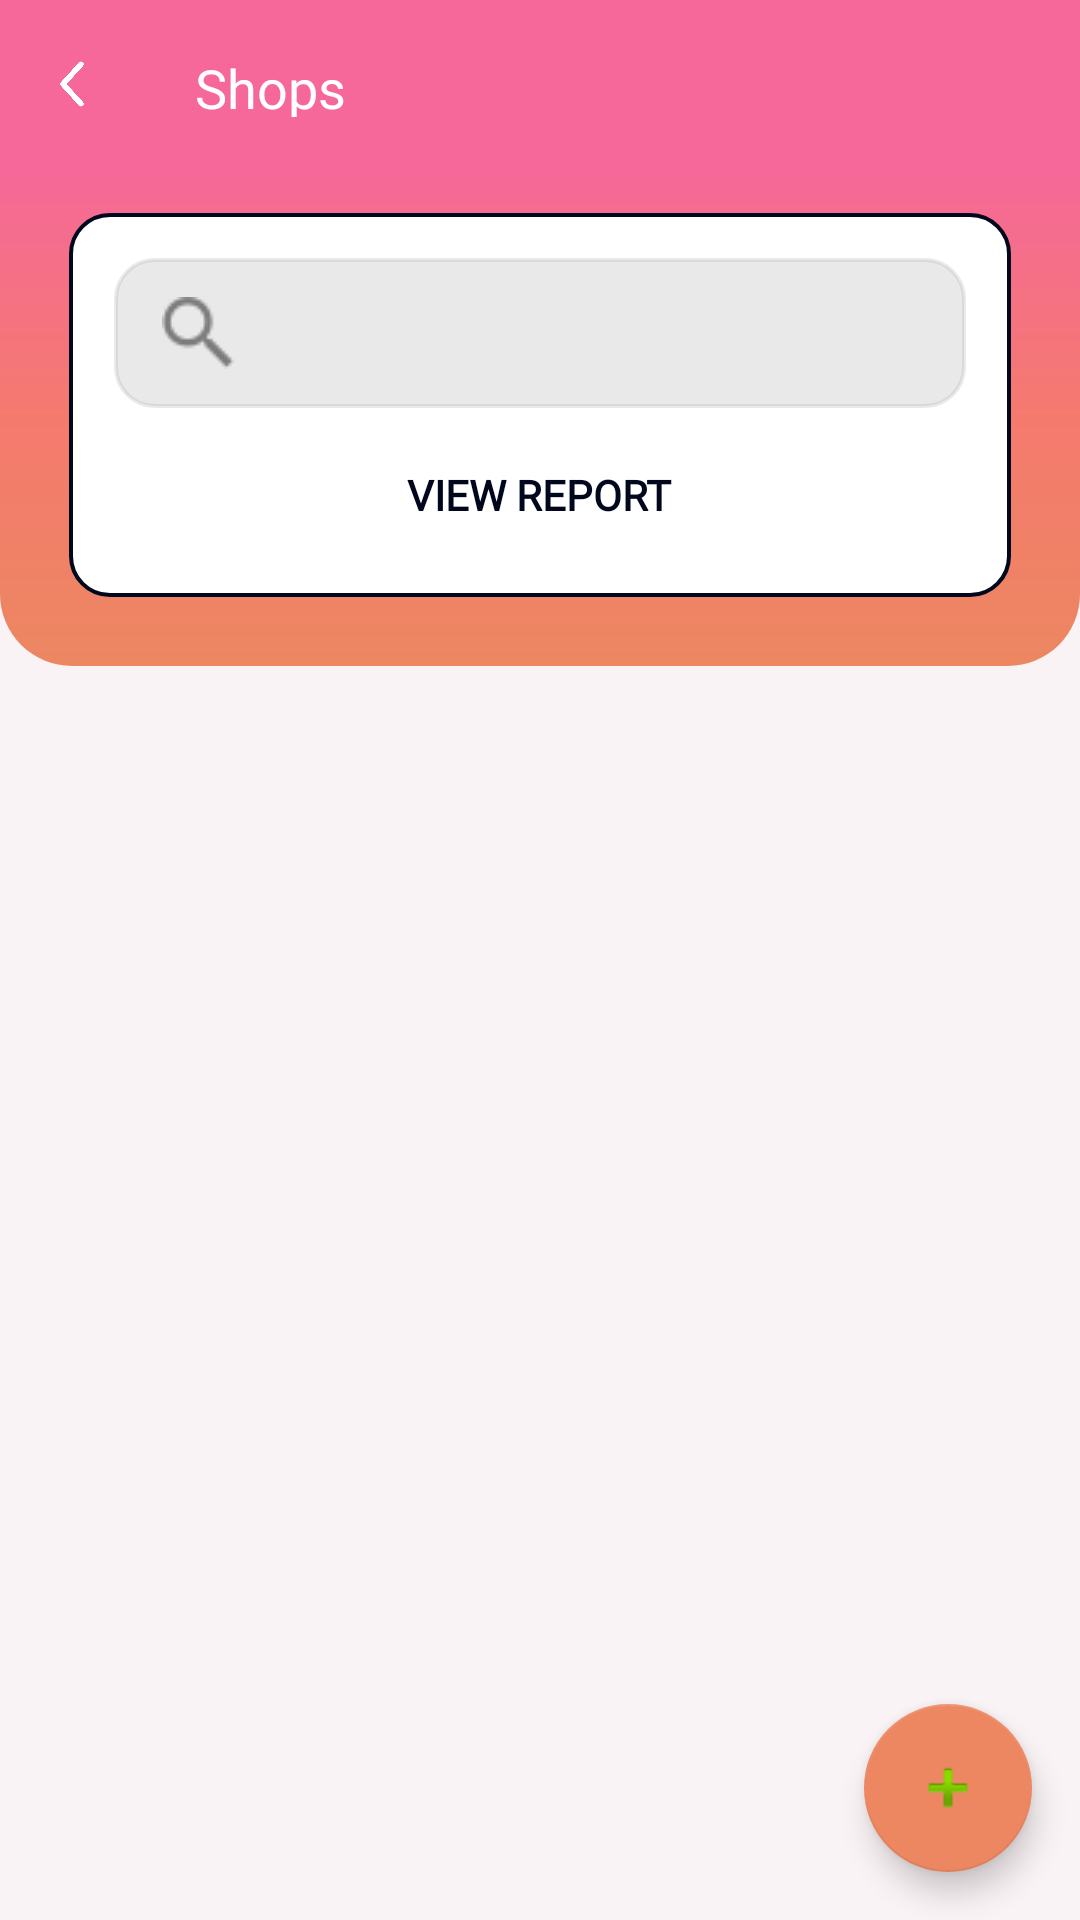

Named icons in this screenshot (1080w x 1920h) and their bounding boxes, (x1, y1, x2, y2):
add: (864, 1704, 1032, 1872)
backbutton: (60, 61, 84, 107)
